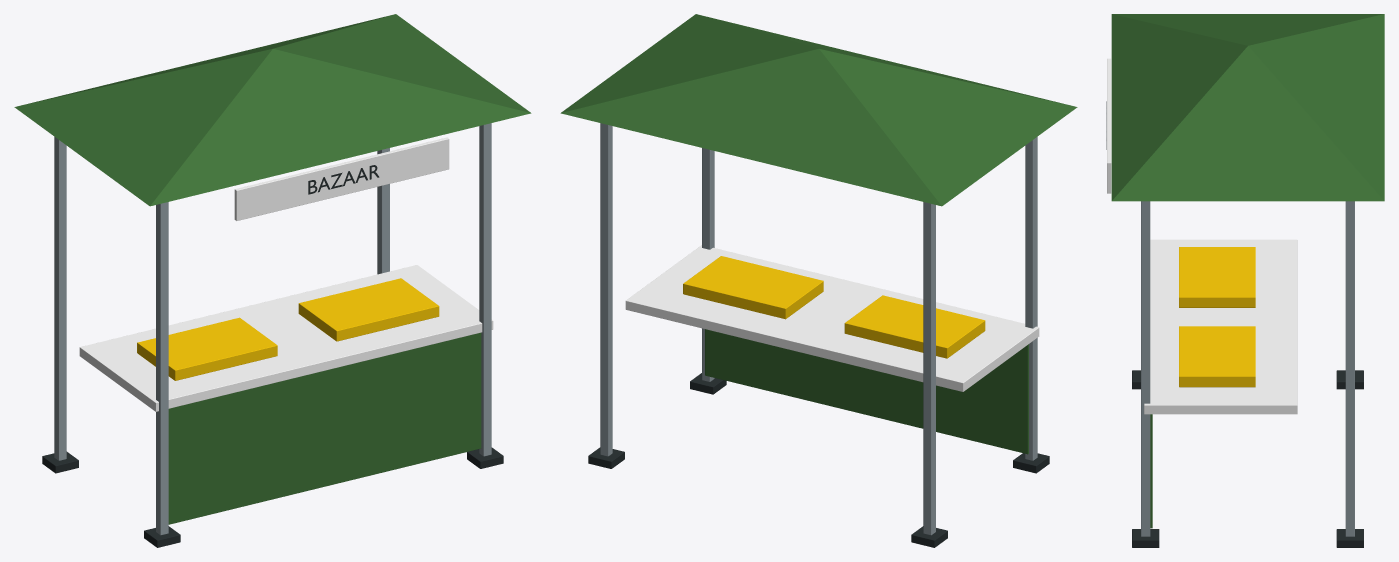
Rendered from hari-raya-bazaar-stall.glb.
3 views of the same model, side by side, from view 1: azimuth 30°, elevation 25°; view 2: azimuth 150°, elevation 25°; view 3: azimuth 270°, elevation 25° (orthographic).
Parts seen in each view (by area): view 1: Awning, Front_Apron, Counter, Signboard, Empty_Display_Tray.001, Empty_Display_Tray, Leg, Leg.001, Leg.002, Leg.003; view 2: Awning, Counter, Front_Apron, Empty_Display_Tray.001, Empty_Display_Tray, Leg.003, Leg.001, Leg, Leg.002; view 3: Awning, Counter, Empty_Display_Tray.001, Empty_Display_Tray, Leg.003, Leg.002, Signboard, Foot.002, Foot.003, Foot.001.
Part boxes in pixels (x1,y1,x2,y2): Awning: (14,14,531,206); Front_Apron: (168,332,481,524); Counter: (79,265,493,411); Signboard: (234,137,449,220); Empty_Display_Tray.001: (298,278,439,341); Empty_Display_Tray: (137,317,277,380); Leg: (156,202,168,535); Leg.001: (54,137,66,460); Leg.002: (479,123,491,456); Leg.003: (377,148,389,274); Awning: (560,14,1077,206); Counter: (625,245,1039,391); Front_Apron: (705,329,1028,454); Empty_Display_Tray.001: (683,256,823,319); Empty_Display_Tray: (844,295,985,358); Leg.003: (600,123,612,456); Leg.001: (923,202,935,535); Leg: (1025,137,1037,460); Leg.002: (702,148,714,381); Awning: (1111,14,1384,201); Counter: (1144,239,1297,414); Empty_Display_Tray.001: (1179,326,1255,387); Empty_Display_Tray: (1179,247,1255,307); Leg.003: (1345,201,1354,536); Leg.002: (1141,201,1150,536); Signboard: (1107,58,1111,193); Foot.002: (1132,529,1159,547); Foot.003: (1336,529,1363,547); Foot.001: (1336,370,1363,389).
Size of the model in its own units: 2.6 by 2.7 by 1.63.
